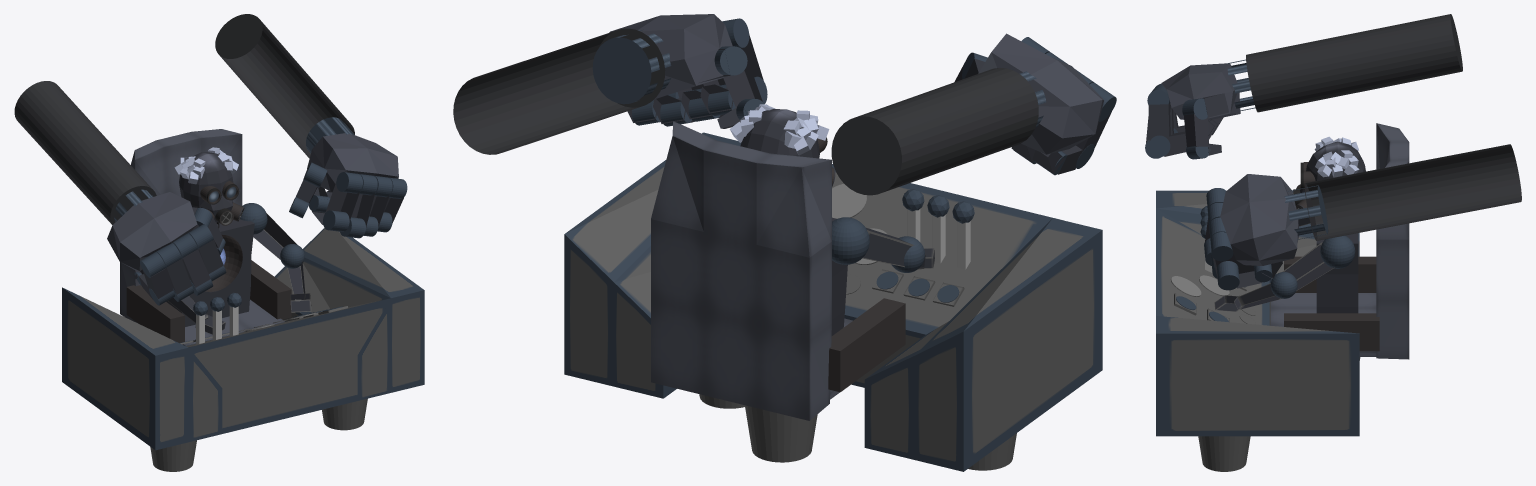
File: bossTitle.obj
3 views of the same model, side by side, from view 1: azimuth 30°, elevation 25°; view 2: azimuth 150°, elevation 25°; view 3: azimuth 270°, elevation 25° (orthographic). The views are drawn at different scales.
Visible parts, largest first — view 1: 円柱.001; view 2: 円柱.001; view 3: 円柱.001.
Part boxes in pixels (x1=…): 円柱.001: x1=14, y1=14, x2=424, y2=471; 円柱.001: x1=453, y1=14, x2=1116, y2=471; 円柱.001: x1=1145, y1=14, x2=1521, y2=471.
Size of the model in its own units: 17.71 by 17.36 by 17.43.
18 materials, 18 textured.
